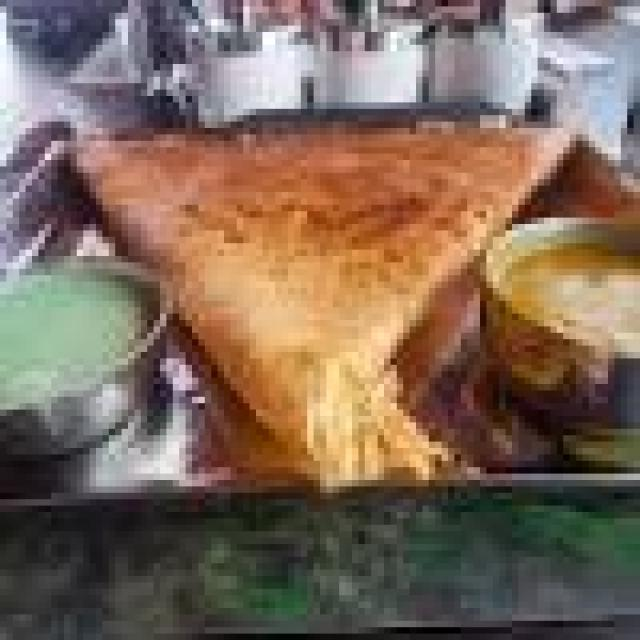Wet Waste: (70, 109, 550, 480)
